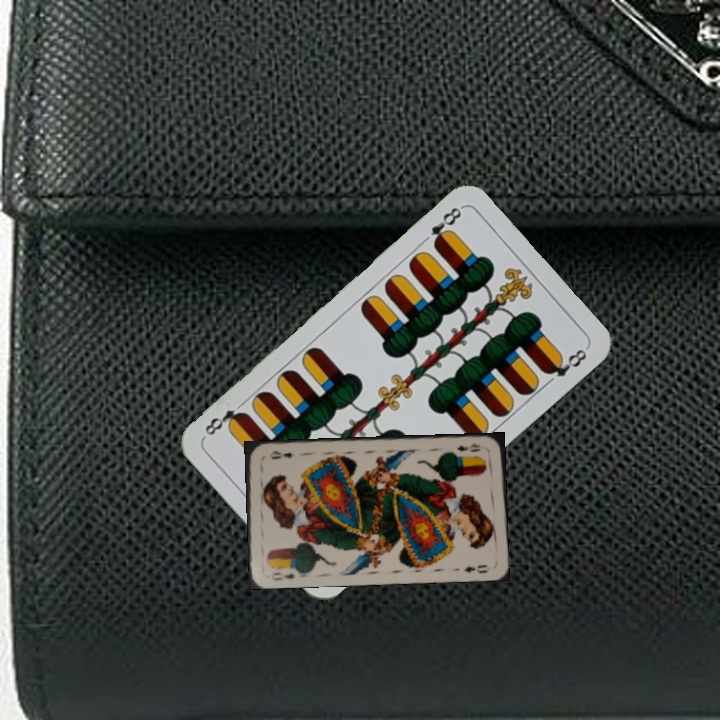E8: (426, 203, 465, 251)
EO: (453, 440, 483, 454), (268, 568, 296, 583)
